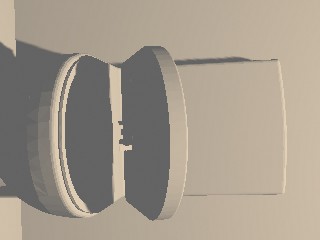lid_1: (120, 46, 187, 219)
